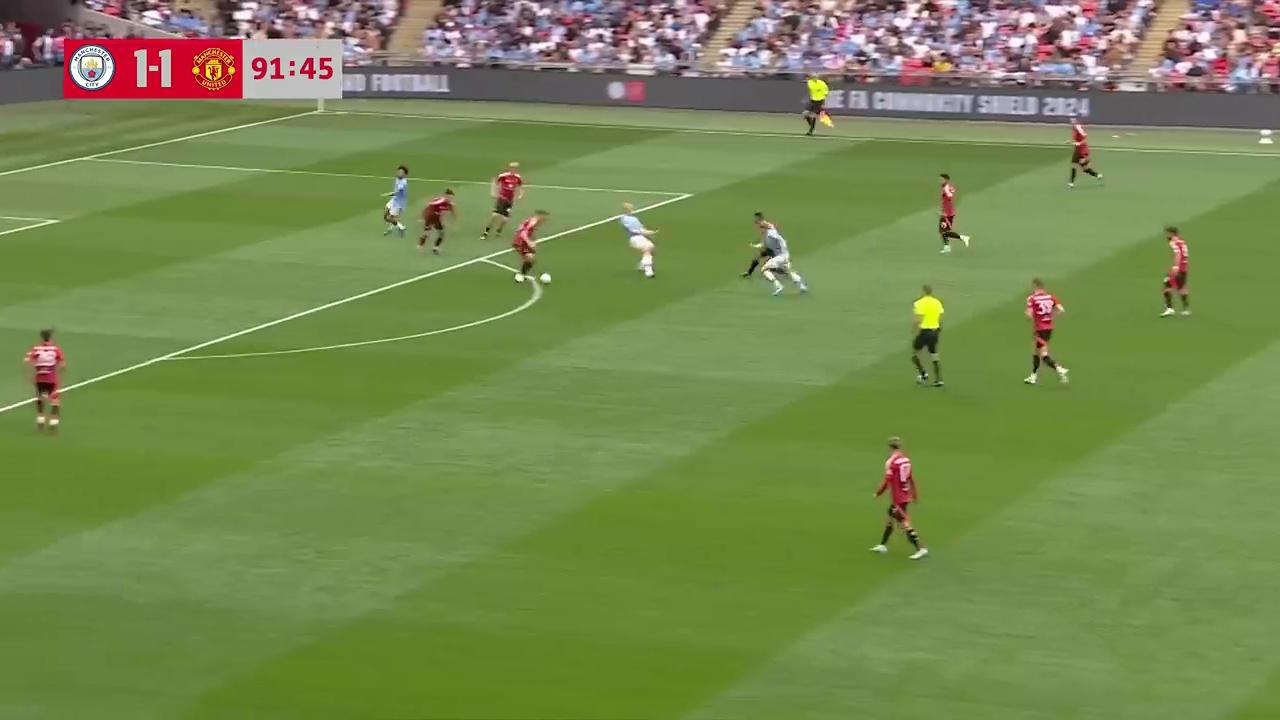ball: (540, 270, 552, 284)
player: (869, 438, 928, 559), (1023, 278, 1069, 387), (23, 327, 67, 431), (760, 222, 808, 296), (481, 161, 523, 241), (616, 203, 659, 278), (1160, 227, 1191, 318), (511, 210, 549, 284), (744, 214, 778, 295), (416, 188, 457, 254), (938, 173, 969, 253), (1067, 121, 1103, 187), (382, 164, 409, 237)
referee: (910, 284, 946, 387), (803, 73, 834, 137)
